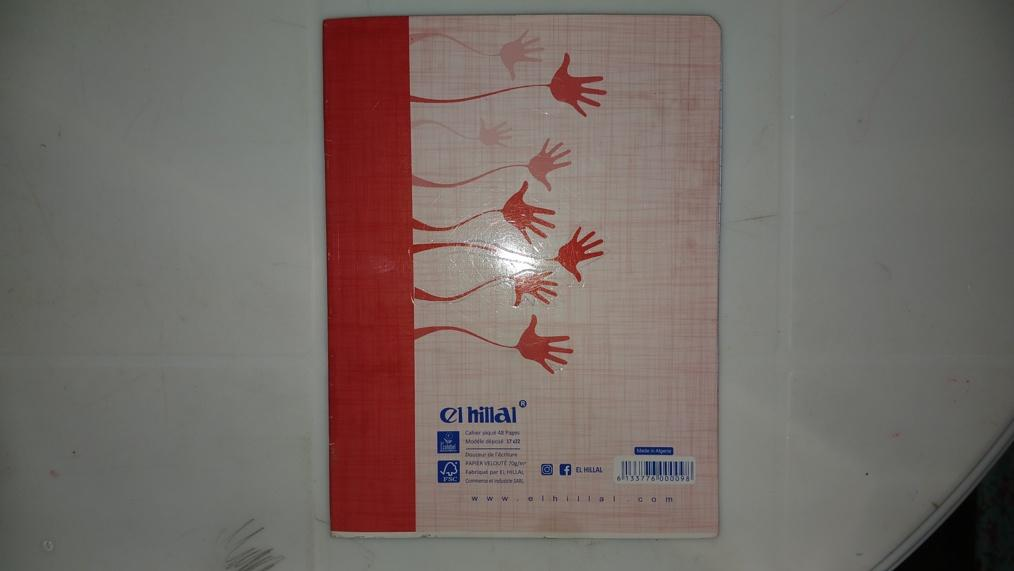notebook: (324, 12, 723, 535)
